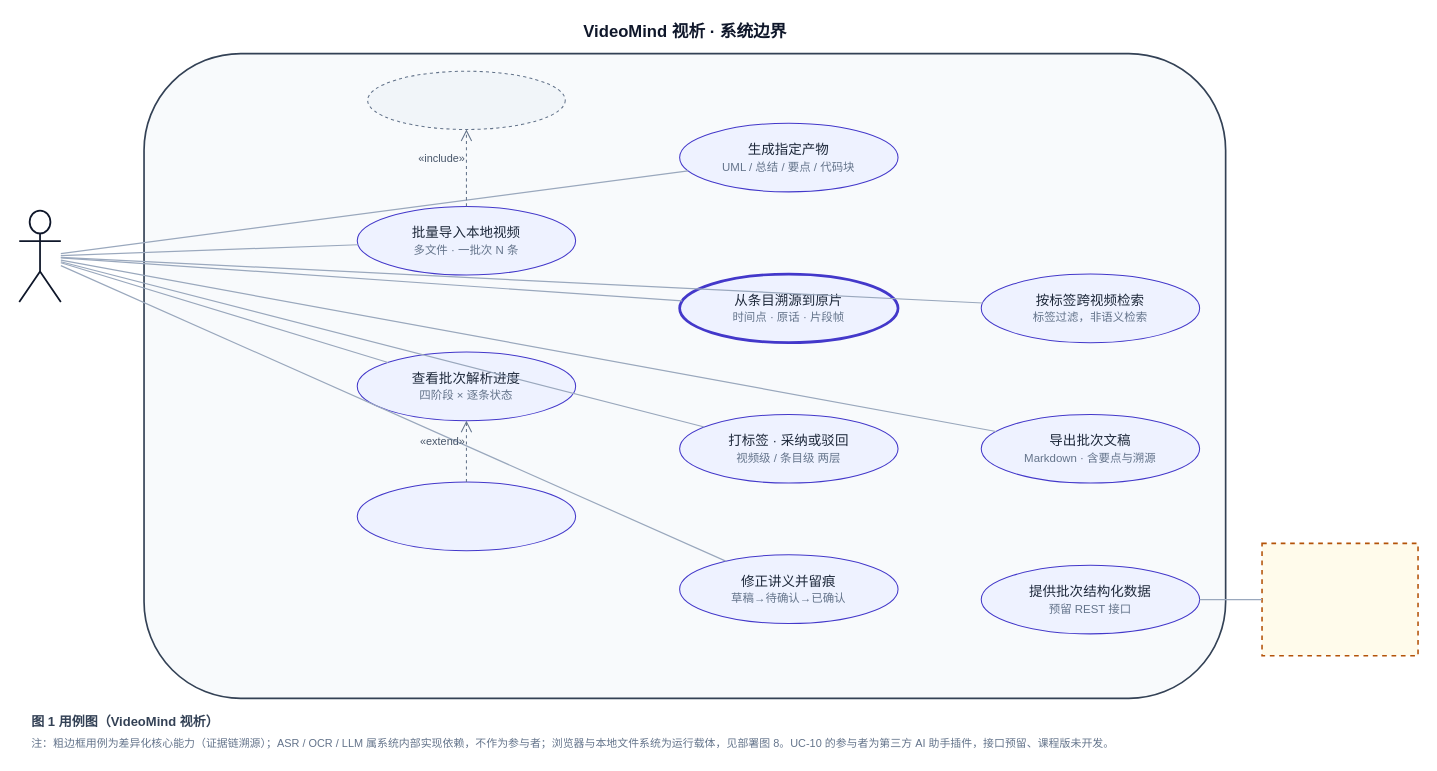
Some shapes in this 1437 by 771 pixel diagram are drawn without their labels. Each missing label, with the centre of its shape:
«第三方系统» AI 助手插件 预留接口（课程版未开发）: (1339,599)
单条失败重试 不重跑整批: (466,516)
学习者: (39,256)
导入预检 格式校验 + 重复检测: (466,99)
